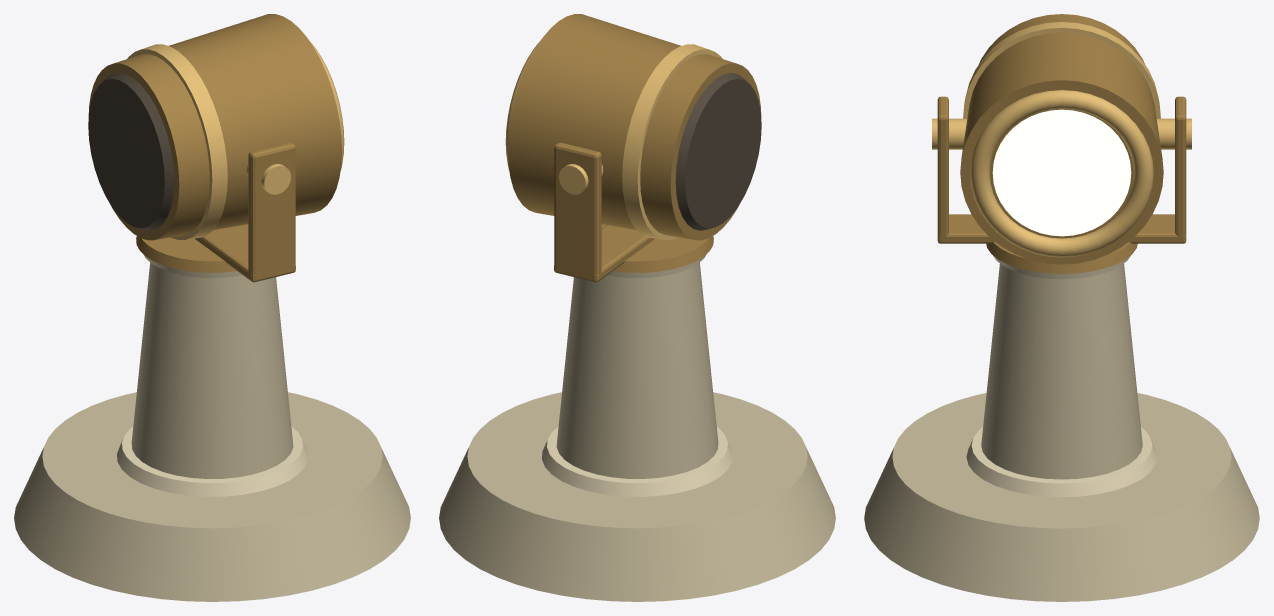
The model's file is light-emitter-v01.glb.
3 renders of one model, left to right at view 1: azimuth 30°, elevation 25°; view 2: azimuth 150°, elevation 25°; view 3: azimuth 270°, elevation 25°, orthographic.
Parts seen in each view (by area): view 1: Shadow sandstone 0, Shadow brass 2, Shadow bronze dark 4, Shadow brass light 3, Shadow sandstone light 1; view 2: Shadow sandstone 0, Shadow brass 2, Shadow bronze dark 4, Shadow brass light 3, Shadow sandstone light 1; view 3: Shadow sandstone 0, Shadow brass 2, Shadow lamp glow 5, Shadow brass light 3, Shadow sandstone light 1.
Part boxes in pixels (left/top/right/bottom): Shadow sandstone 0: left=14, top=262, right=410, bottom=601; Shadow brass 2: left=88, top=14, right=341, bottom=282; Shadow bronze dark 4: left=88, top=73, right=174, bottom=230; Shadow brass light 3: left=127, top=39, right=344, bottom=239; Shadow sandstone light 1: left=117, top=254, right=307, bottom=496; Shadow sandstone 0: left=439, top=262, right=835, bottom=601; Shadow brass 2: left=508, top=14, right=761, bottom=282; Shadow bronze dark 4: left=675, top=73, right=761, bottom=230; Shadow brass light 3: left=505, top=39, right=722, bottom=239; Shadow sandstone light 1: left=542, top=254, right=732, bottom=496; Shadow sandstone 0: left=864, top=264, right=1259, bottom=601; Shadow brass 2: left=937, top=14, right=1186, bottom=273; Shadow lamp glow 5: left=992, top=109, right=1131, bottom=236; Shadow brass light 3: left=932, top=22, right=1191, bottom=257; Shadow sandstone light 1: left=966, top=255, right=1157, bottom=497.
Bounding box in the file's own units: 1.4 × 1.86 × 1.4.
